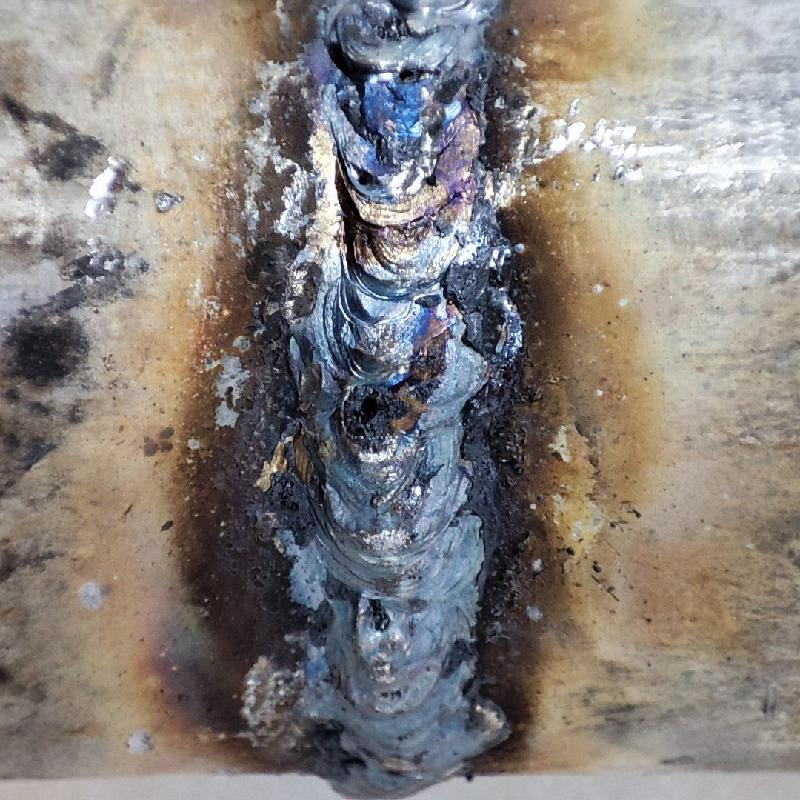Surface_pores: (341, 379, 403, 445), (354, 586, 398, 646), (383, 53, 427, 99), (341, 153, 379, 200), (418, 161, 453, 199)
